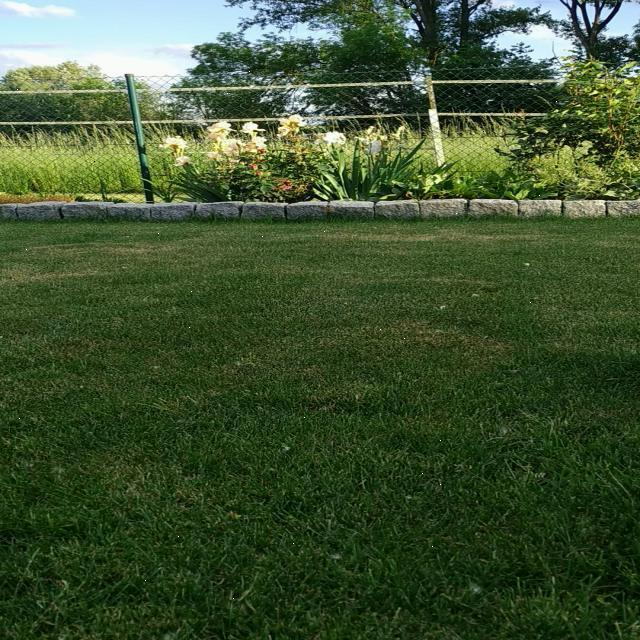lawn: (0, 219, 640, 640)
